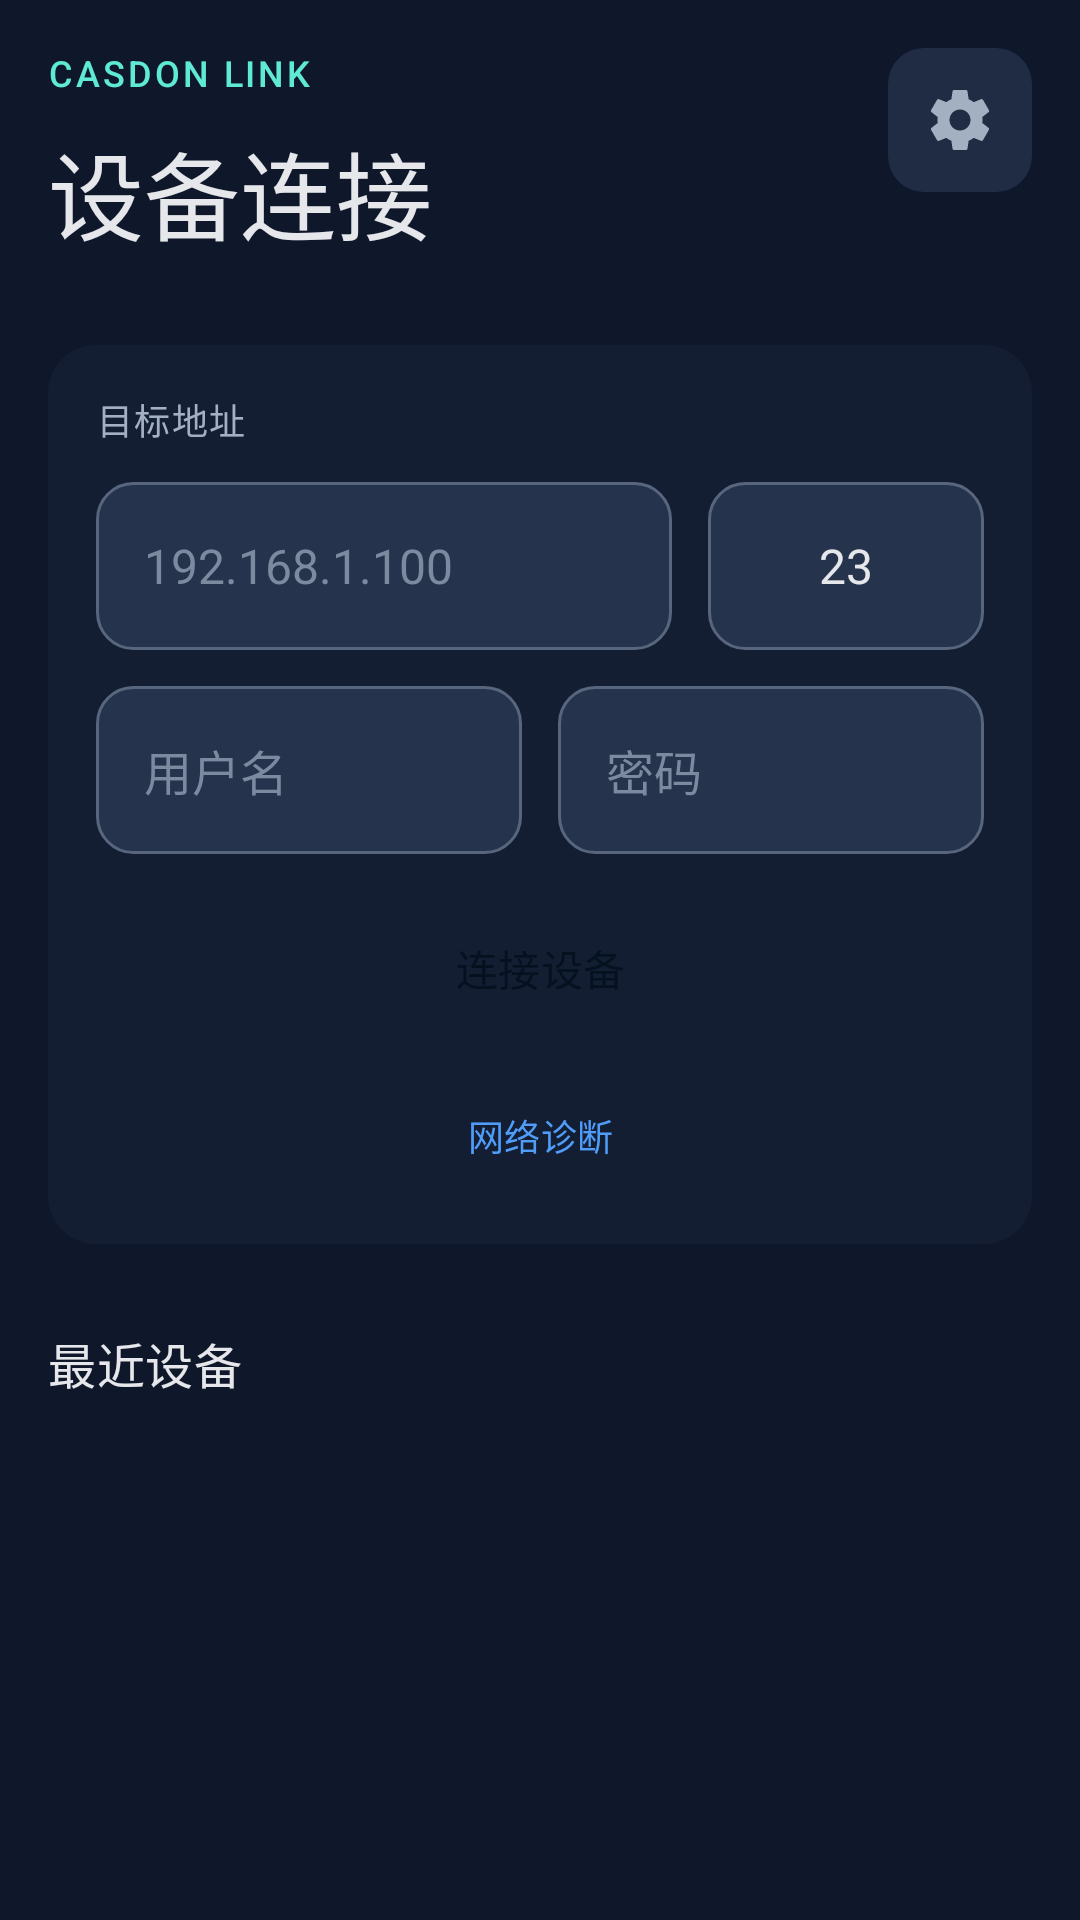

Icons on this 1080w x 1920h Android screen, each with its box as bbox=(x1, y1, x2, y2):
设置: bbox=(888, 48, 1032, 192)
